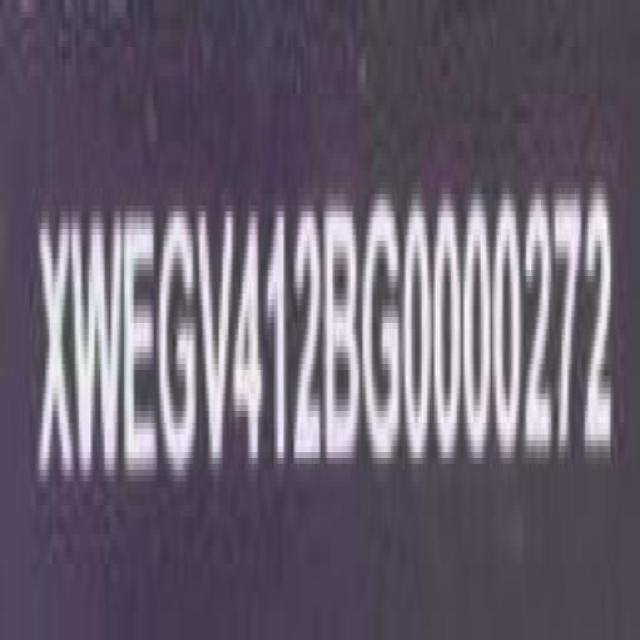0: (463, 189, 494, 467), (404, 189, 434, 470), (432, 188, 462, 468), (494, 190, 524, 467)
1: (268, 195, 290, 479)
2: (586, 180, 618, 465), (294, 199, 326, 475), (524, 186, 554, 464)
4: (232, 201, 264, 483)
7: (552, 180, 582, 464)
B: (327, 195, 364, 473)
E: (124, 206, 160, 489)
G: (158, 206, 199, 488), (362, 191, 402, 474)
V: (197, 198, 234, 476)
W: (73, 205, 126, 490)
X: (35, 206, 74, 497)
